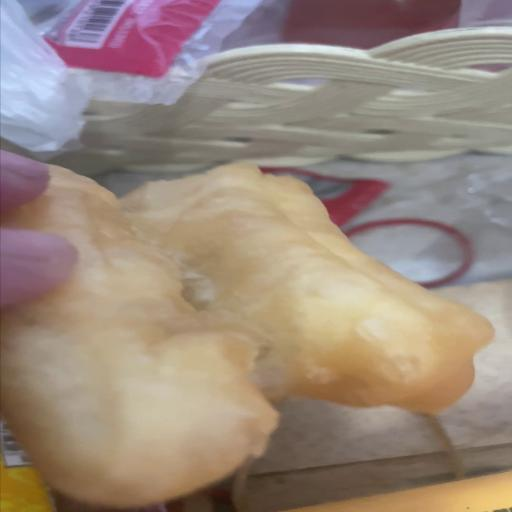street_golden_defect: (0, 164, 494, 509)
